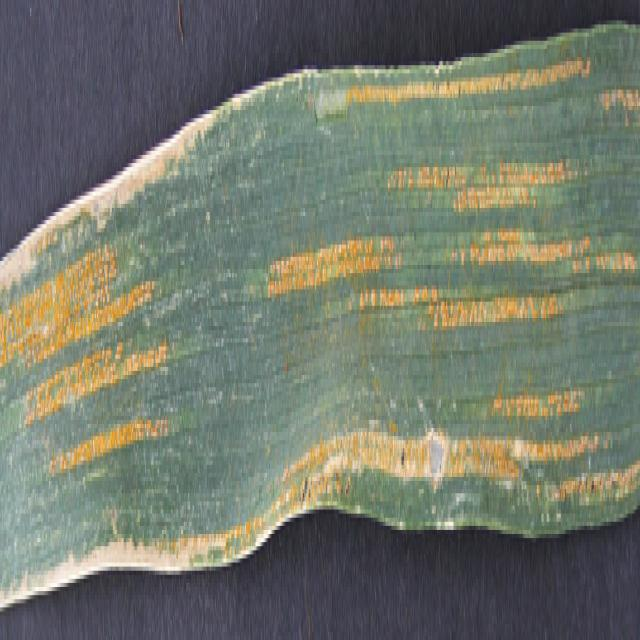leaf rust: (243, 53, 639, 550), (1, 232, 192, 510)
